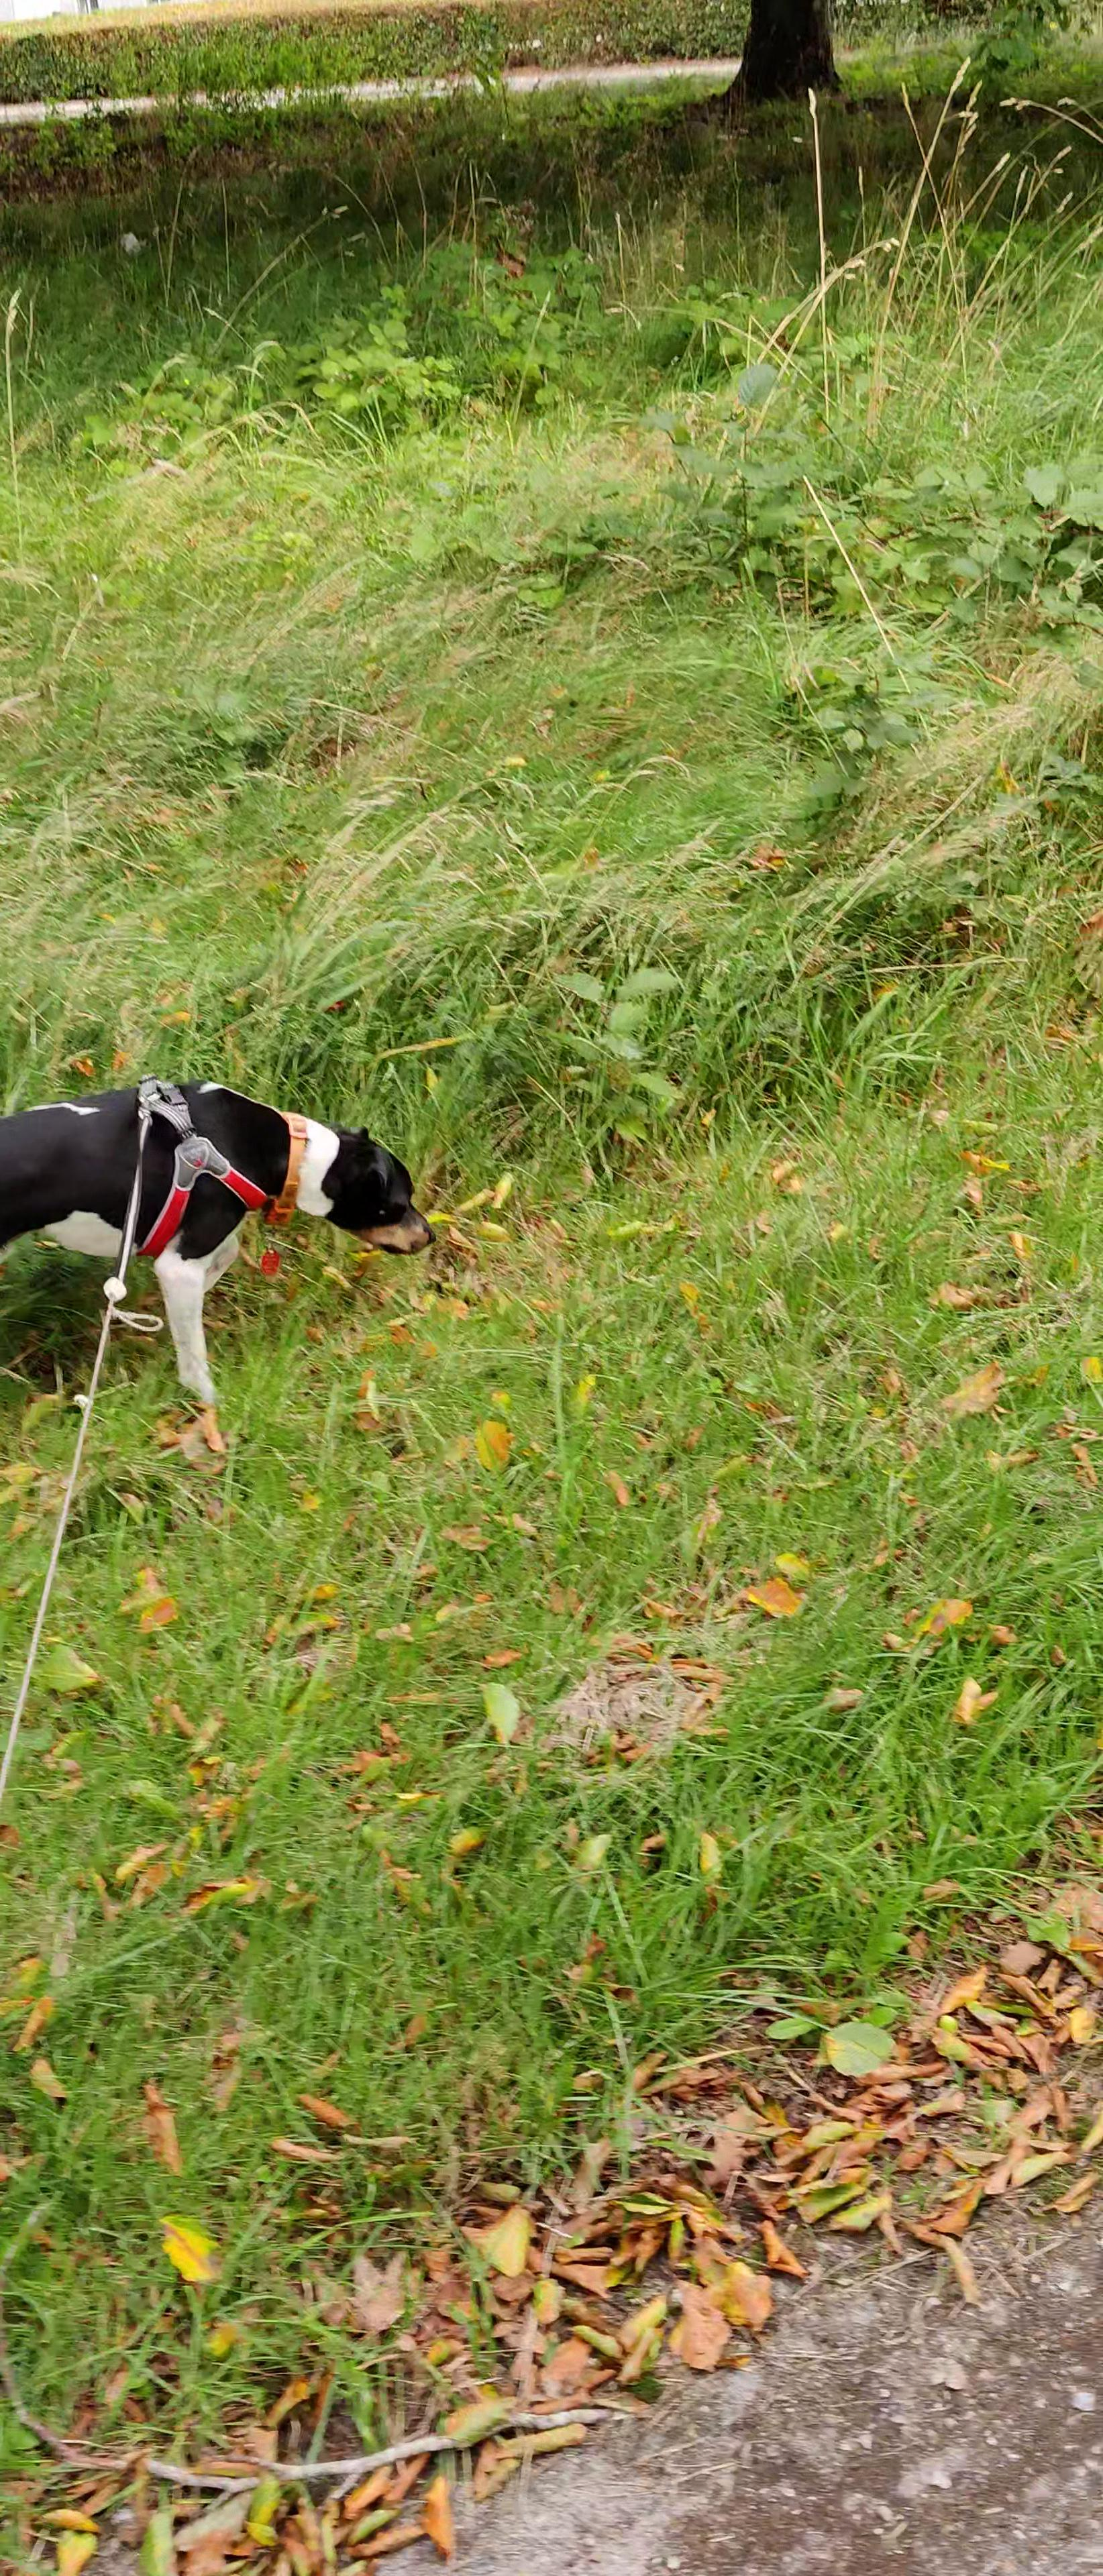Dog: (0, 1068, 447, 1418)
